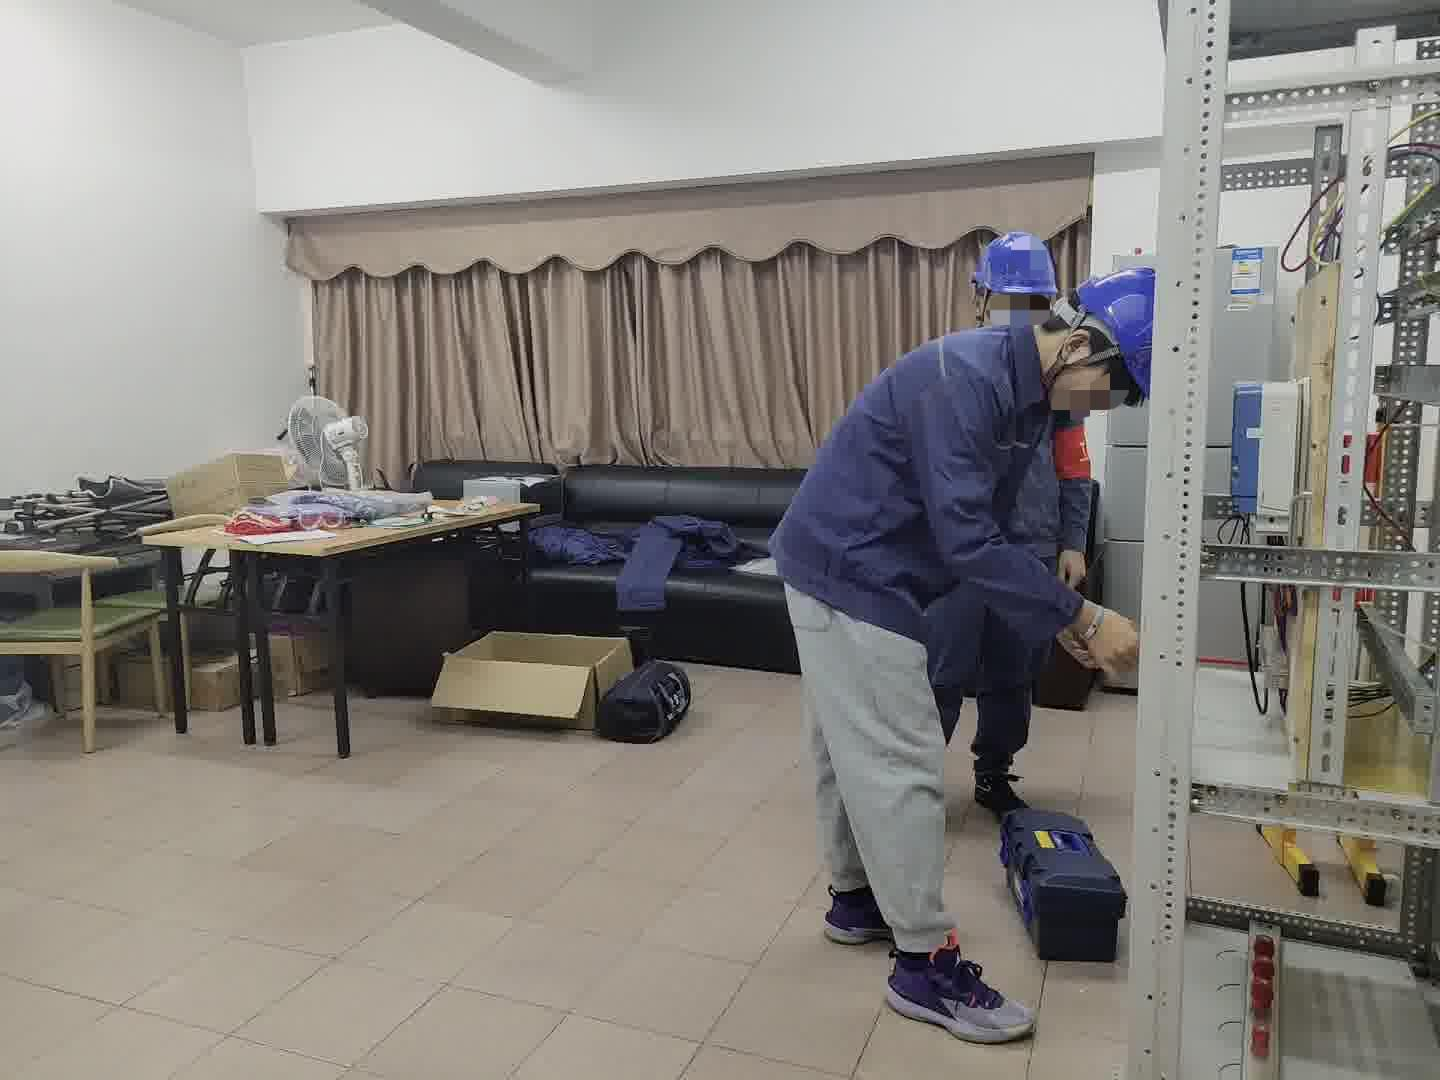halt: (1047, 269, 1158, 423), (973, 231, 1064, 320)
inear: (1049, 311, 1115, 397)
